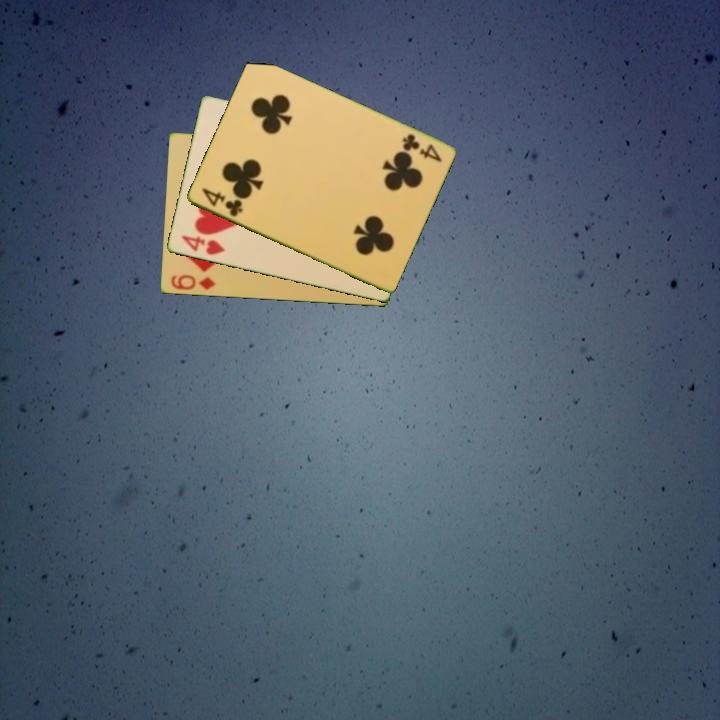4c: (198, 184, 245, 220), (398, 130, 445, 165)
4h: (177, 232, 228, 258)
6d: (167, 271, 218, 293)
